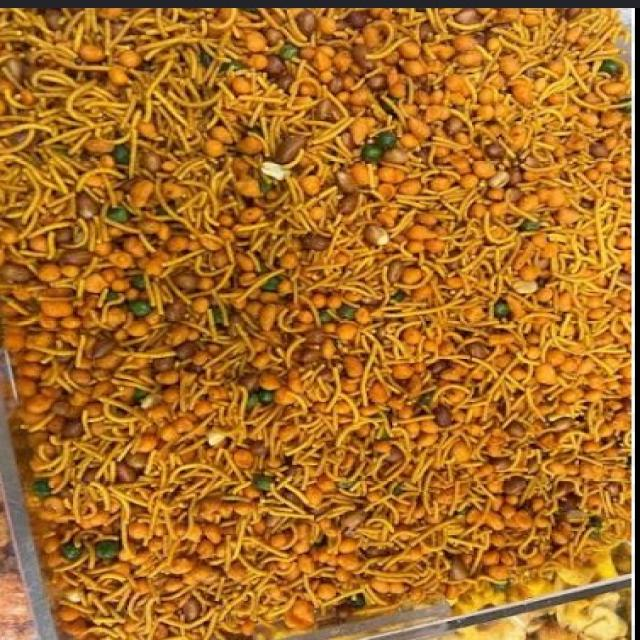Mattai: (0, 2, 630, 634)
